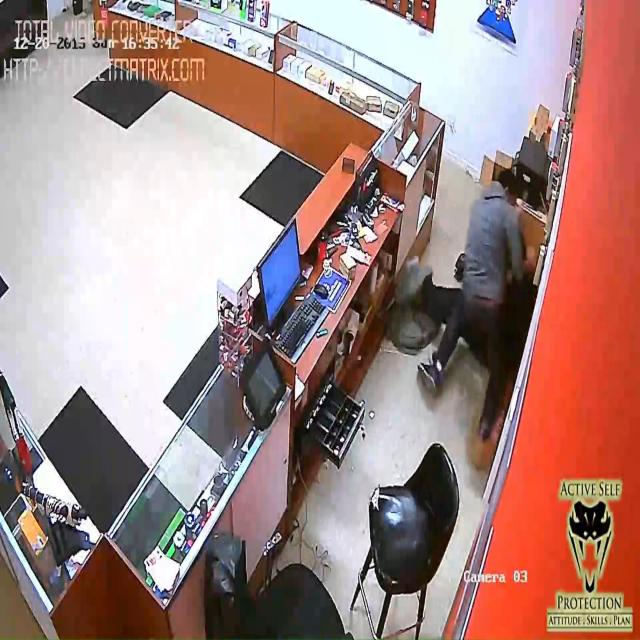fight: (418, 165, 528, 485)
